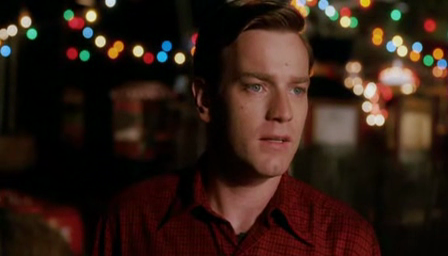cu: (1, 1, 448, 256)
face: (227, 45, 310, 177)
person: (93, 1, 381, 256)
